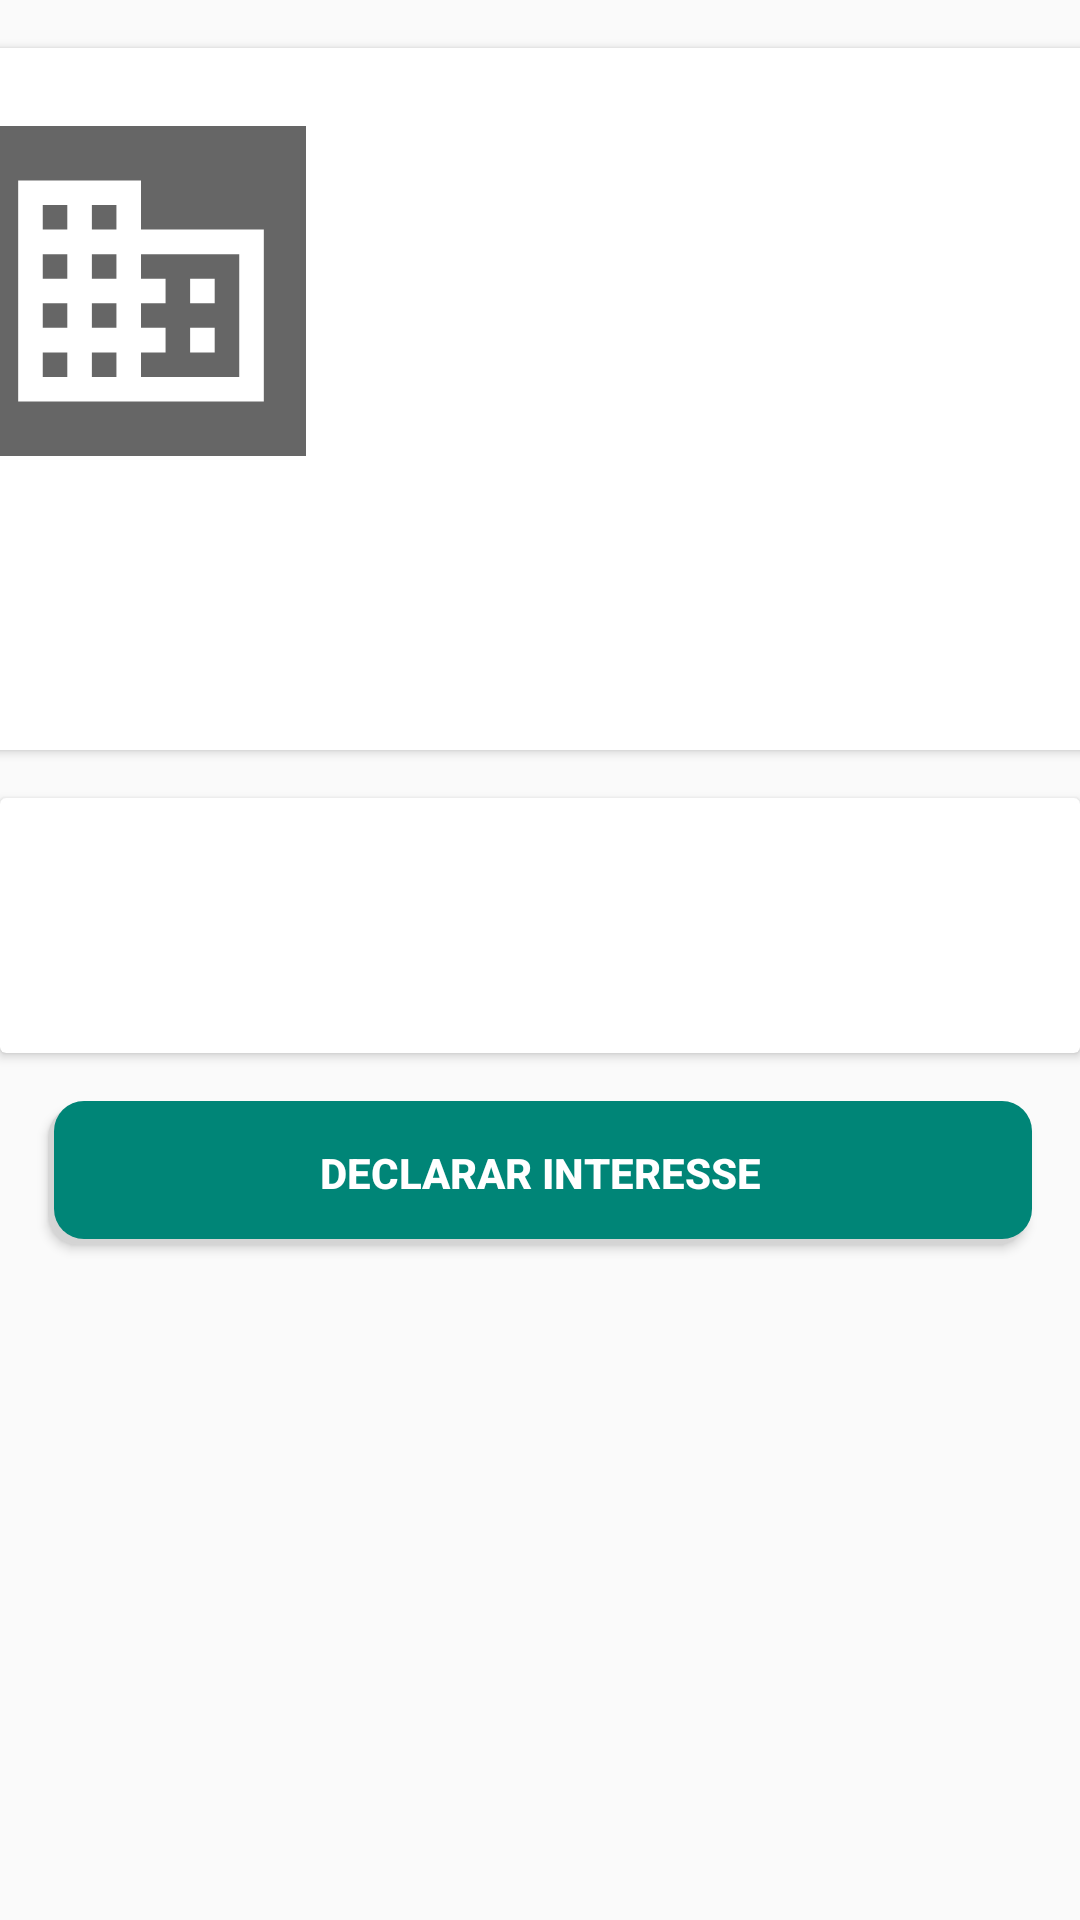

Where icons sit on this 1080*1920 app screen, as detection(x1, y1, x2, y2):
company: detection(0, 126, 306, 456)
